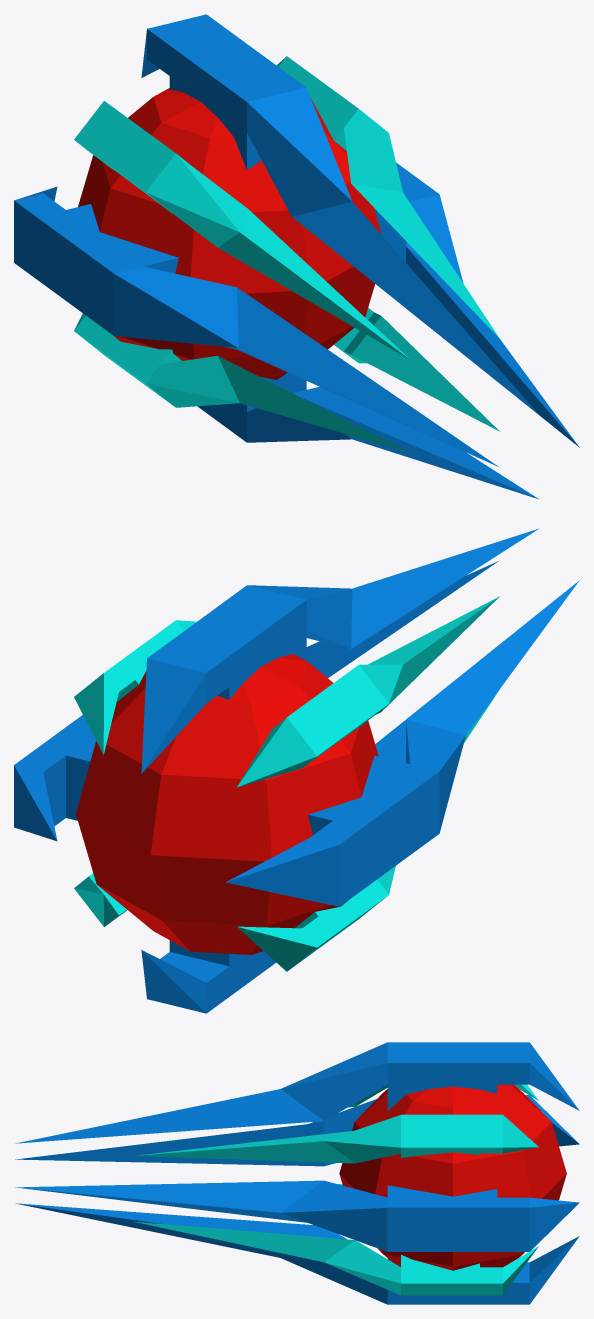
File: player.gltf
3 renders of one model, top to bottom at view 1: azimuth 30°, elevation 25°; view 2: azimuth 150°, elevation 25°; view 3: azimuth 270°, elevation 25°, orthographic. The views are drawn at different scales.
Visible parts, largest first — view 1: 自機; view 2: 自機; view 3: 自機.
Part boxes in pixels (x1,y1,x2,y2): 自機: (14,14,579,499); 自機: (14,528,579,1013); 自機: (15,1042,579,1304).
Size of the model in its own units: 2.35 by 2.35 by 4.97.
